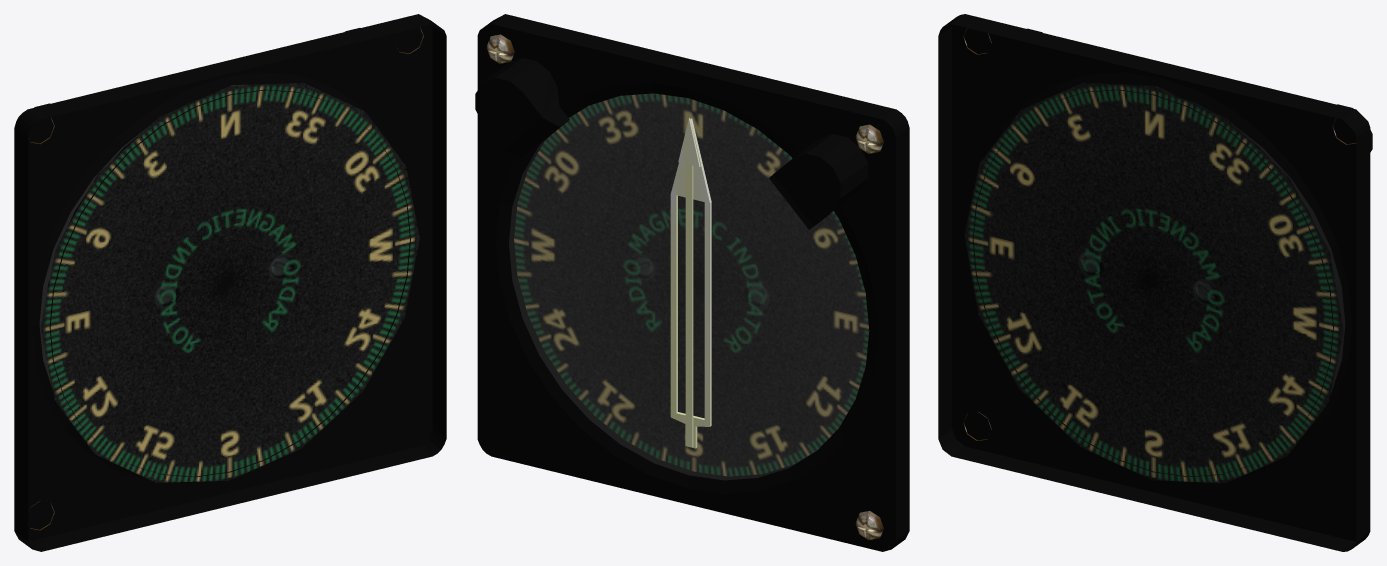
File: rmi.obj
3 views of the same model, side by side, from view 1: azimuth 30°, elevation 25°; view 2: azimuth 150°, elevation 25°; view 3: azimuth 330°, elevation 25° (orthographic).
Parts seen in each view (by area): view 1: face, fond; view 2: face, fond, vitre, RMI.Needle2, RMI.Needle1; view 3: face, fond, vitre.
Part boxes in pixels (left/top/right/bottom): face: left=40, top=83, right=419, bottom=482; fond: left=14, top=14, right=446, bottom=551; face: left=514, top=93, right=869, bottom=476; fond: left=475, top=14, right=909, bottom=551; vitre: left=509, top=94, right=868, bottom=479; RMI.Needle2: left=670, top=118, right=711, bottom=448; RMI.Needle1: left=678, top=118, right=700, bottom=447; face: left=964, top=82, right=1343, bottom=483; fond: left=938, top=14, right=1372, bottom=551; vitre: left=1246, top=135, right=1344, bottom=387.
Bounding box in the file's own units: 0.1088 × 0.1075 × 0.0185.
2 materials, 1 textured.
